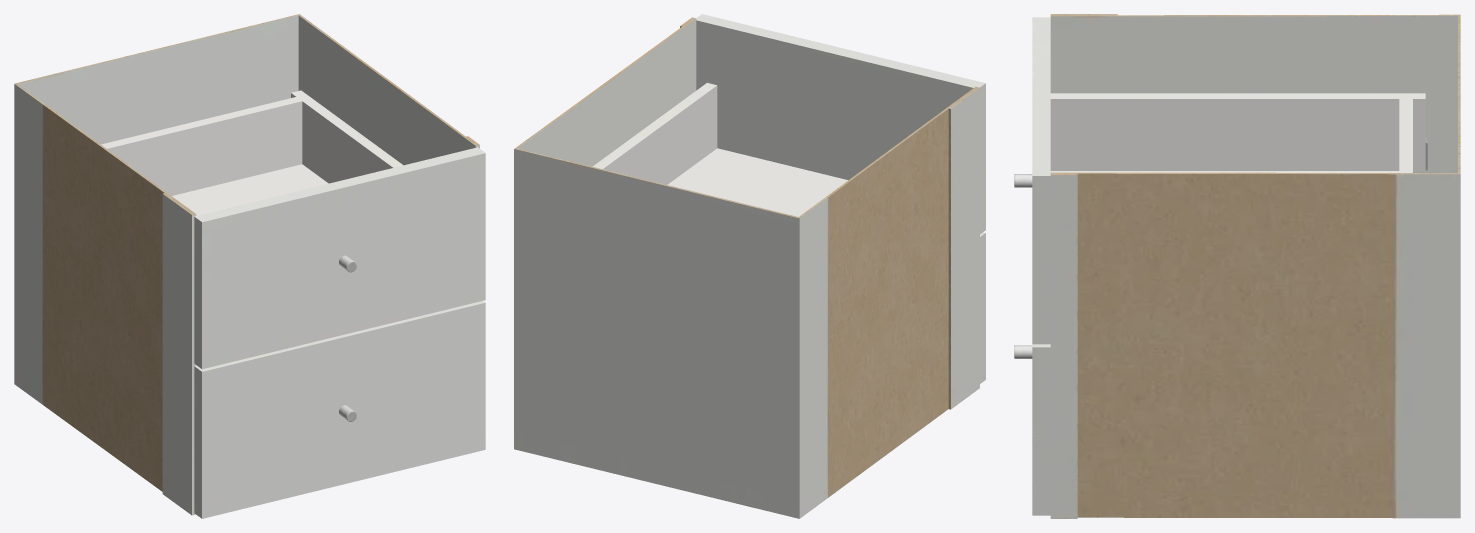
The model's file is kallax_wkad_z_2_szufladami_70286645.glb.
The picture shows the model from 3 angles, left to right: view 1: azimuth 30°, elevation 25°; view 2: azimuth 150°, elevation 25°; view 3: azimuth 270°, elevation 25°; orthographic projection. The views are drawn at different scales.
Visible parts, largest first — view 1: kallax_wkad_z_2_szufladami_70286645; view 2: kallax_wkad_z_2_szufladami_70286645; view 3: kallax_wkad_z_2_szufladami_70286645.
Part boxes in pixels (box(x1,y1,x2,y2)): kallax_wkad_z_2_szufladami_70286645: box(14, 14, 485, 518); kallax_wkad_z_2_szufladami_70286645: box(514, 14, 985, 518); kallax_wkad_z_2_szufladami_70286645: box(1014, 14, 1460, 518).
Size of the model in its own units: 0.3352 by 0.334 by 0.393.
Materials: 1 (1 with a texture image).
